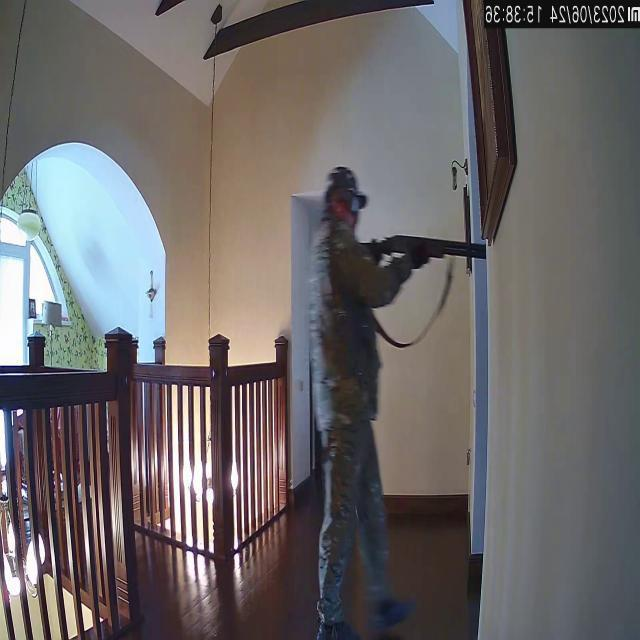pistol: (356, 232, 484, 264)
